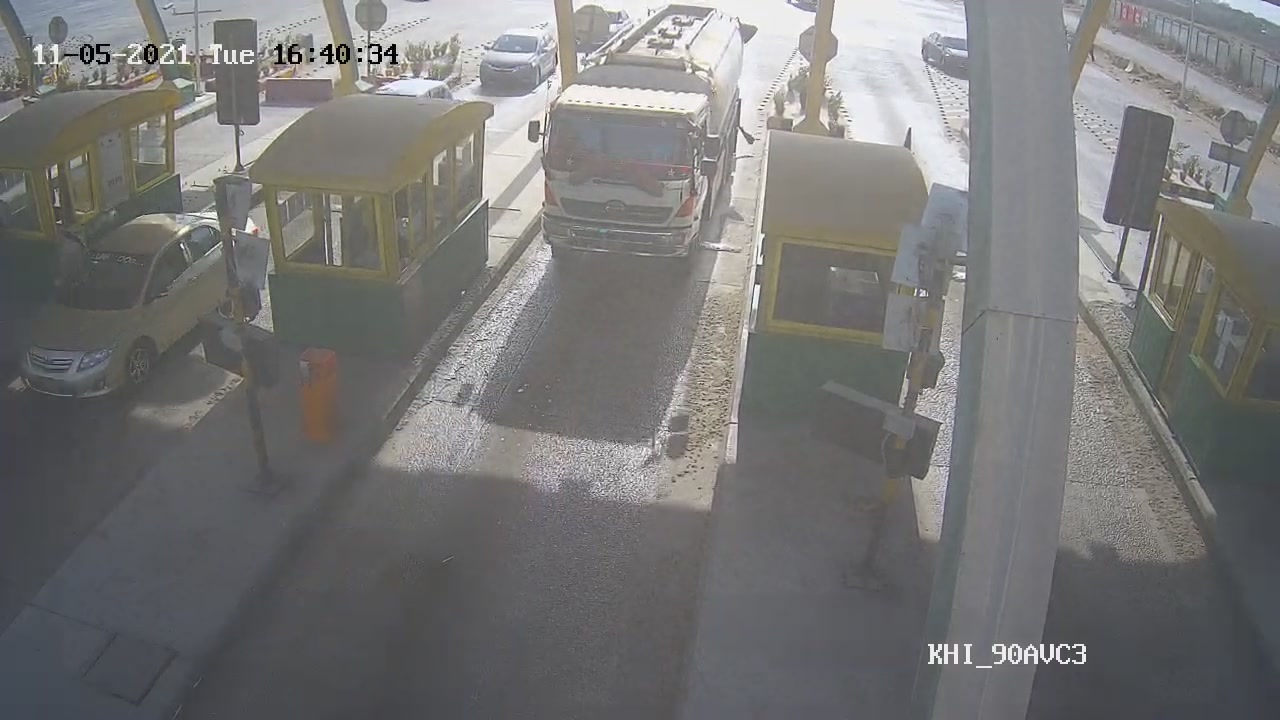F6: (536, 3, 751, 277)
